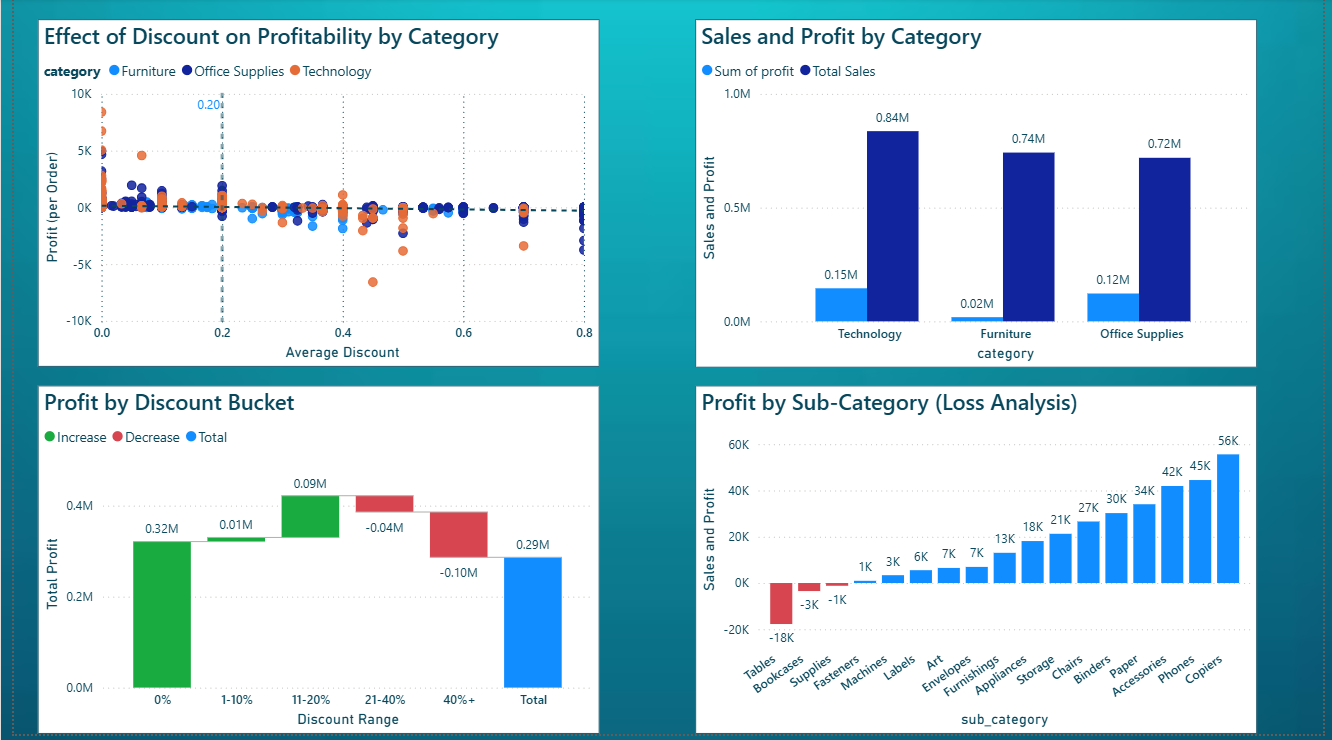

What the dashboard file says about the page in this screenshot:
{"tool":"powerbi","page":{"name":"Page 2","canvas":[1280,720],"ordinal":1},"visuals":[{"type":"clusteredColumnChart","title":"Sales and Profit by Category","fields":{"Y":["Sum(cleaned_superstore.profit)","cleaned_superstore.Total Sales"],"Category":["cleaned_superstore.category"]},"box":[666.6,20.2,549.7,340.5],"z":0},{"type":"scatterChart","title":"Effect of Discount on Profitability by Category","fields":{"Y":["Sum(cleaned_superstore.profit)"],"X":["Avg(cleaned_superstore.discount)"],"Series":["cleaned_superstore.category"],"Category":["cleaned_superstore.order_id"]},"box":[23.1,20.2,549.7,340],"z":1000},{"type":"waterfallChart","title":"Profit by Discount Bucket","fields":{"Category":["cleaned_superstore.Discount Bucket"],"Y":["Sum(cleaned_superstore.profit)"]},"box":[23.1,379.4,549.7,340.5],"z":2000},{"type":"clusteredColumnChart","title":"Profit by Sub-Category (Loss Analysis)","fields":{"Y":["Sum(cleaned_superstore.profit)"],"Category":["cleaned_superstore.sub_category"]},"box":[666.6,379.4,549.7,340.5],"z":2001}]}

Visuals, with their boxes in screenshot pixels (x1, y1, x2, y2), scaled from the page's 1280x720 canvas onto the 1332x740 screenshot:
"Sales and Profit by Category" clusteredColumnChart: [left=694, top=21, right=1266, bottom=371]
"Effect of Discount on Profitability by Category" scatterChart: [left=24, top=21, right=596, bottom=370]
"Profit by Discount Bucket" waterfallChart: [left=24, top=390, right=596, bottom=739]
"Profit by Sub-Category (Loss Analysis)" clusteredColumnChart: [left=694, top=390, right=1266, bottom=739]
